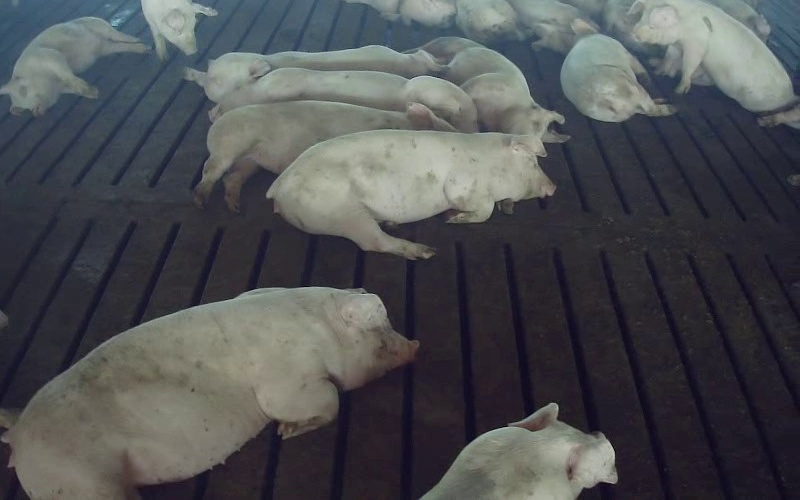pig: (0, 289, 417, 499), (267, 130, 554, 259), (420, 403, 616, 499), (631, 0, 795, 112), (217, 68, 477, 132), (422, 37, 568, 142), (185, 45, 441, 102), (0, 17, 147, 115), (560, 18, 675, 121)
